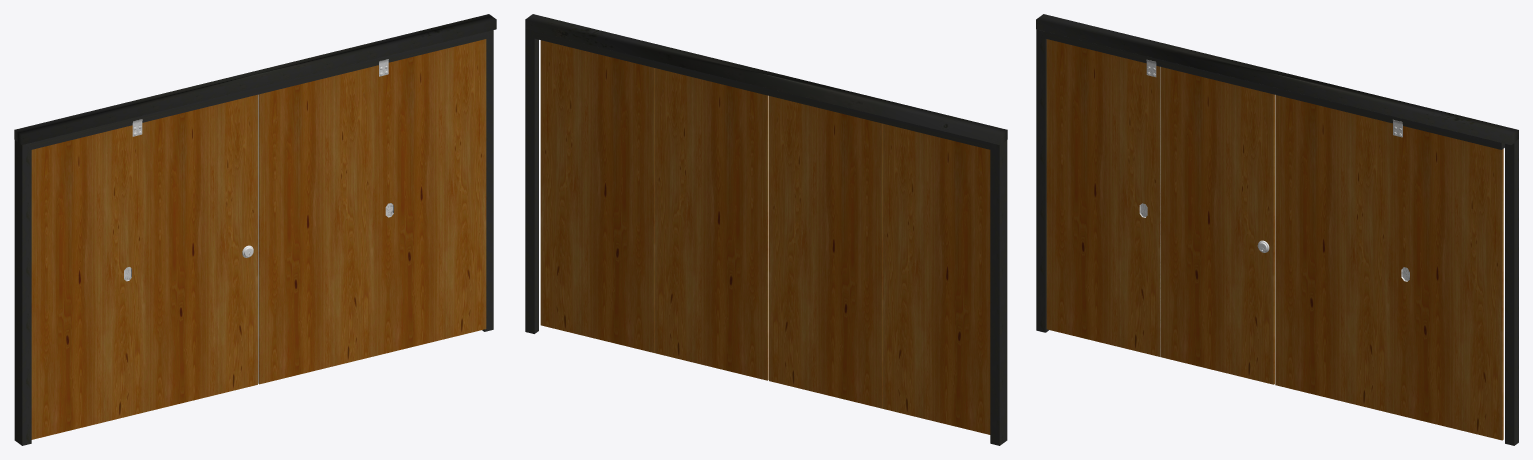
Rendered from door shape 6.fbx.
3 renders of one model, left to right at view 1: azimuth 30°, elevation 25°; view 2: azimuth 150°, elevation 25°; view 3: azimuth 330°, elevation 25°, orthographic.
Visible parts, largest first — view 1: Plane.002, Plane.001, Plane, Plane.003, Cube.001, Cube.002, Cube, Cube.003; view 2: Plane.003, Plane.002, Plane.001, Plane, Cube.001, Cube.002, Cube.003, Cube; view 3: Plane.003, Plane.001, Plane, Plane.002, Cube.001, Cube.003, Cube, Cube.002.
Boxes of the visible parts, <box> form: Plane.002: <box>258,66,372,384</box>; Plane.001: <box>144,94,257,412</box>; Plane: <box>31,122,144,439</box>; Plane.003: <box>373,39,486,356</box>; Cube.001: <box>14,14,496,144</box>; Cube.002: <box>14,140,31,445</box>; Cube: <box>31,31,487,149</box>; Cube.003: <box>482,30,493,331</box>; Plane.003: <box>540,40,654,352</box>; Plane.002: <box>654,68,768,380</box>; Plane.001: <box>769,96,882,408</box>; Plane: <box>882,123,990,434</box>; Cube.001: <box>525,14,1007,144</box>; Cube.002: <box>990,140,1007,445</box>; Cube.003: <box>525,28,538,333</box>; Cube: <box>534,31,990,149</box>; Plane.003: <box>1388,122,1503,440</box>; Plane.001: <box>1160,67,1274,384</box>; Plane: <box>1046,39,1160,356</box>; Plane.002: <box>1275,95,1388,412</box>; Cube.001: <box>1036,14,1518,144</box>; Cube.003: <box>1505,139,1518,445</box>; Cube: <box>1045,32,1504,149</box>; Cube.002: <box>1036,29,1048,332</box>.
Size of the model in its own units: 1139 by 716 by 34.31.
3 materials, 3 textured.
